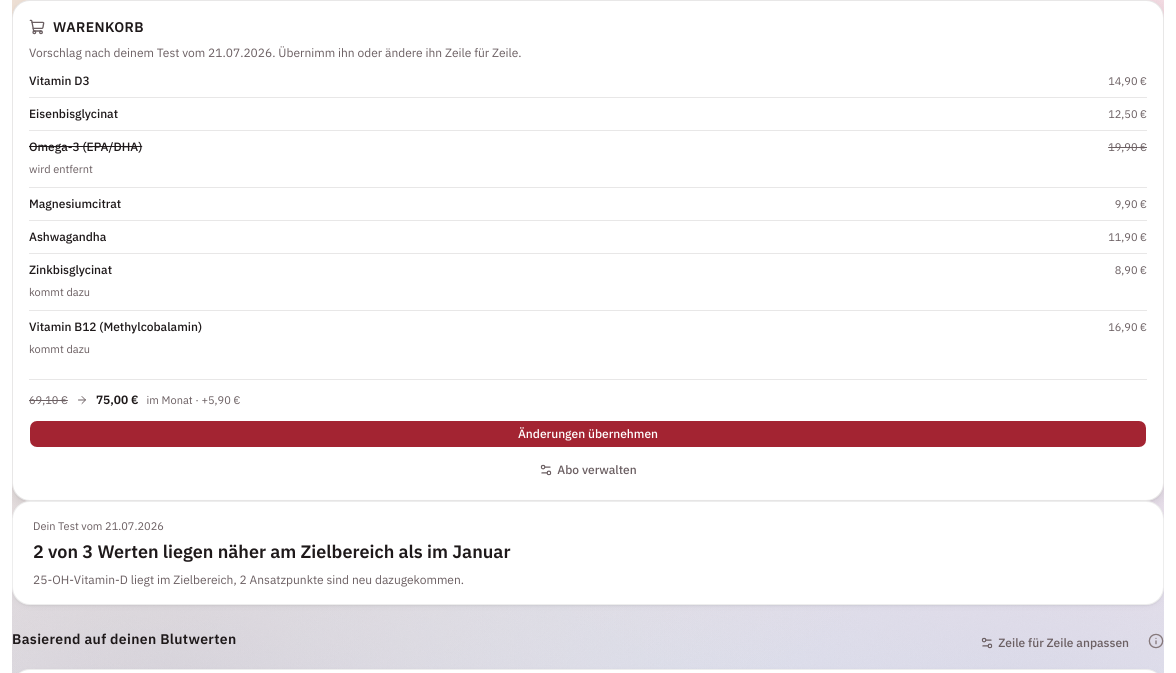
Test: Empfehlungen — der Warenkorb in der Leiste › verlangt fuer eine Kuendigung eine zweite Stufe, die sie benennt
Click the button "Änderungen übernehmen": x=588, y=434 [29, 420, 1147, 448]
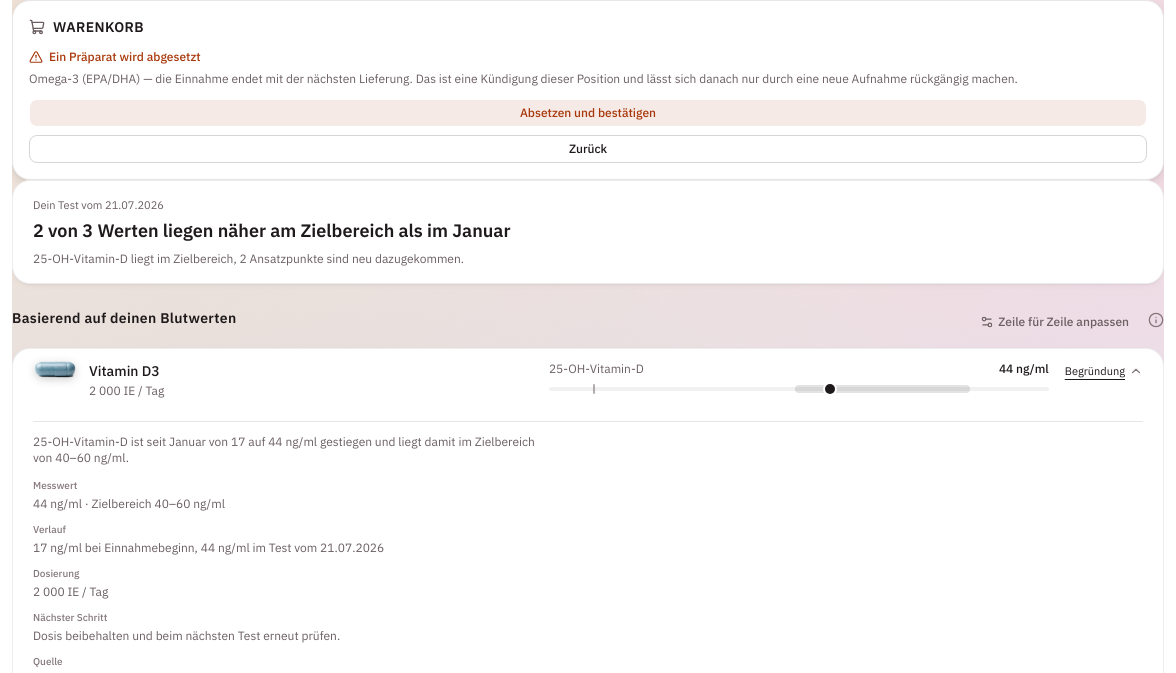
Result: the text "Ein Präparat wird abgesetzt" is shown at [29, 49, 201, 64]
Result: the text "Omega-3 (EPA/DHA) —" is shown at [29, 71, 1147, 87]
Result: the button "Absetzen und bestätigen" is shown at [29, 99, 1147, 127]
